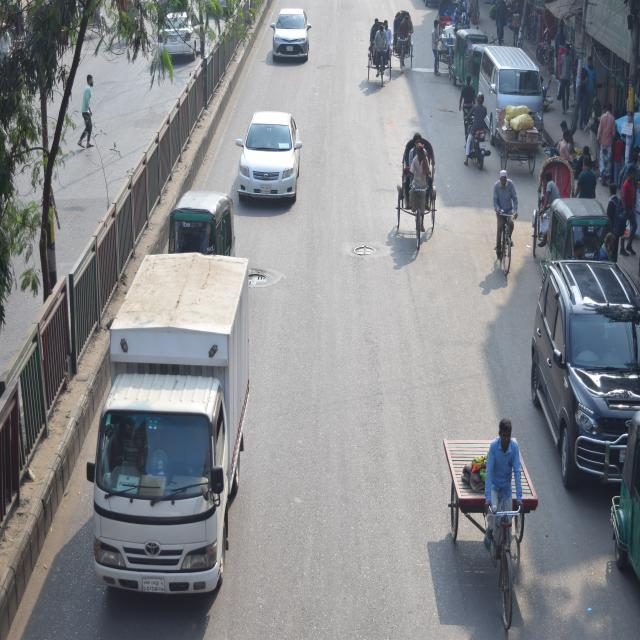car: (534, 252, 640, 471), (238, 106, 303, 208), (268, 4, 306, 59)
microbus: (478, 43, 546, 143)
motorbike: (467, 118, 494, 179)
pickup-van: (93, 242, 242, 595)
